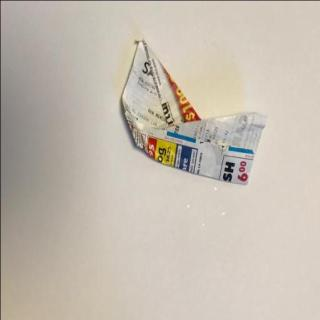Anorganik: (100, 26, 272, 192)
